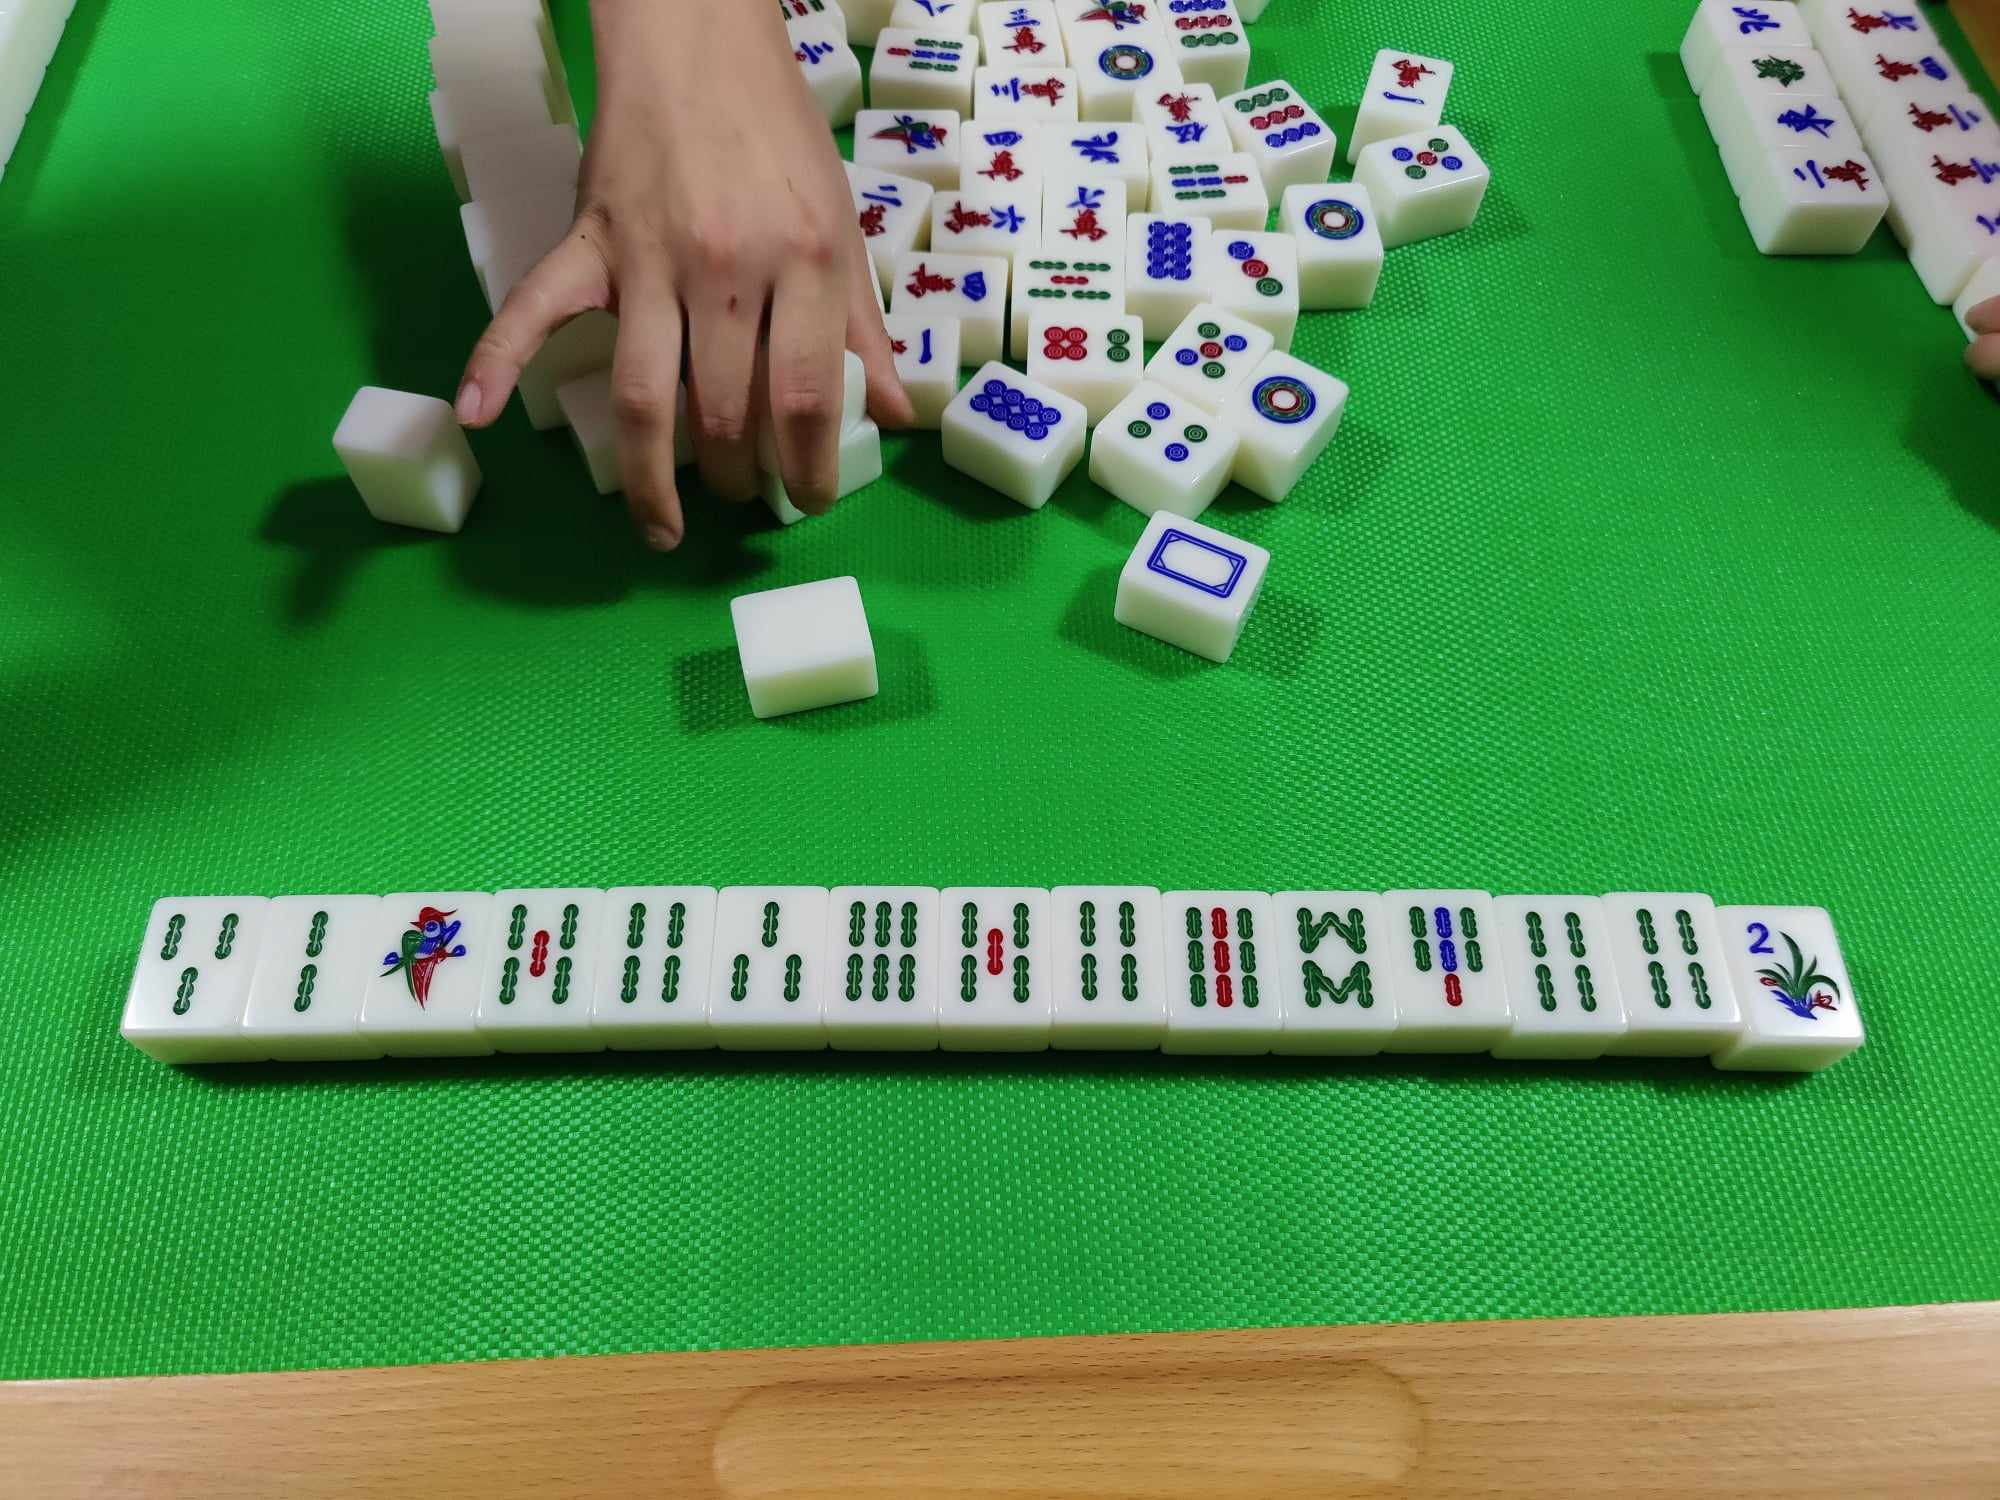bamboo-eight: (1283, 895, 1389, 1013)
bamboo-five: (494, 900, 587, 1021), (945, 897, 1031, 1012)
bamboo-four: (1619, 898, 1724, 1024), (1506, 903, 1605, 1021), (1063, 895, 1153, 1012), (611, 900, 693, 1016)
bamboo-nine: (1170, 901, 1266, 1018)
bamboo-one: (383, 897, 471, 1012)
bamboo-seven: (1406, 900, 1498, 1012)
bamboo-six: (831, 893, 939, 1016)
bamboo-three: (717, 890, 814, 1019), (148, 901, 243, 1026)
bamboo-two: (265, 901, 353, 1026)
flower-blue_two: (1739, 908, 1847, 1027)
